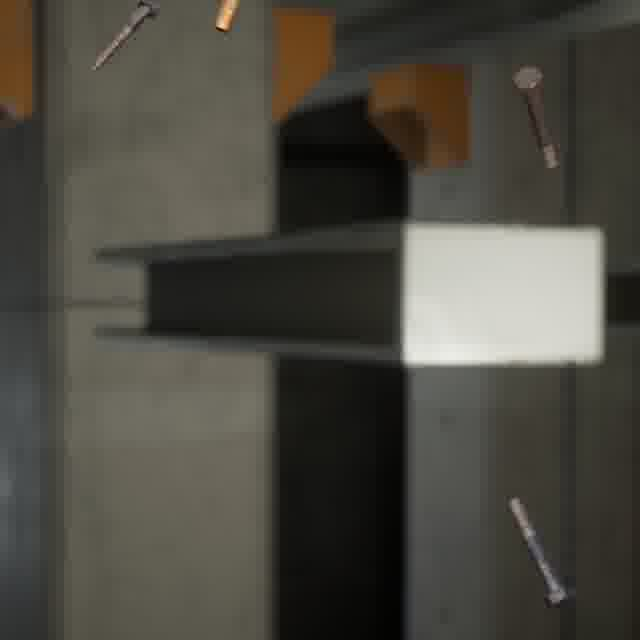bolt: (502, 493, 580, 613), (508, 62, 562, 173), (87, 0, 164, 76), (209, 0, 247, 37)
